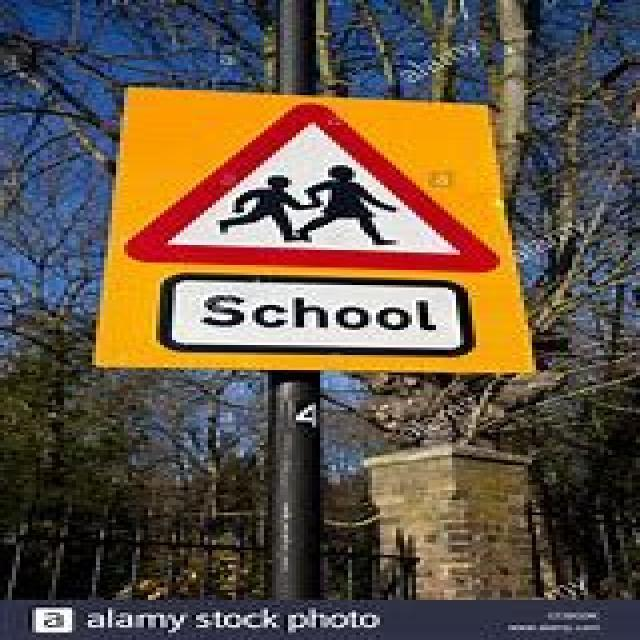school ahead: (130, 100, 501, 273)
